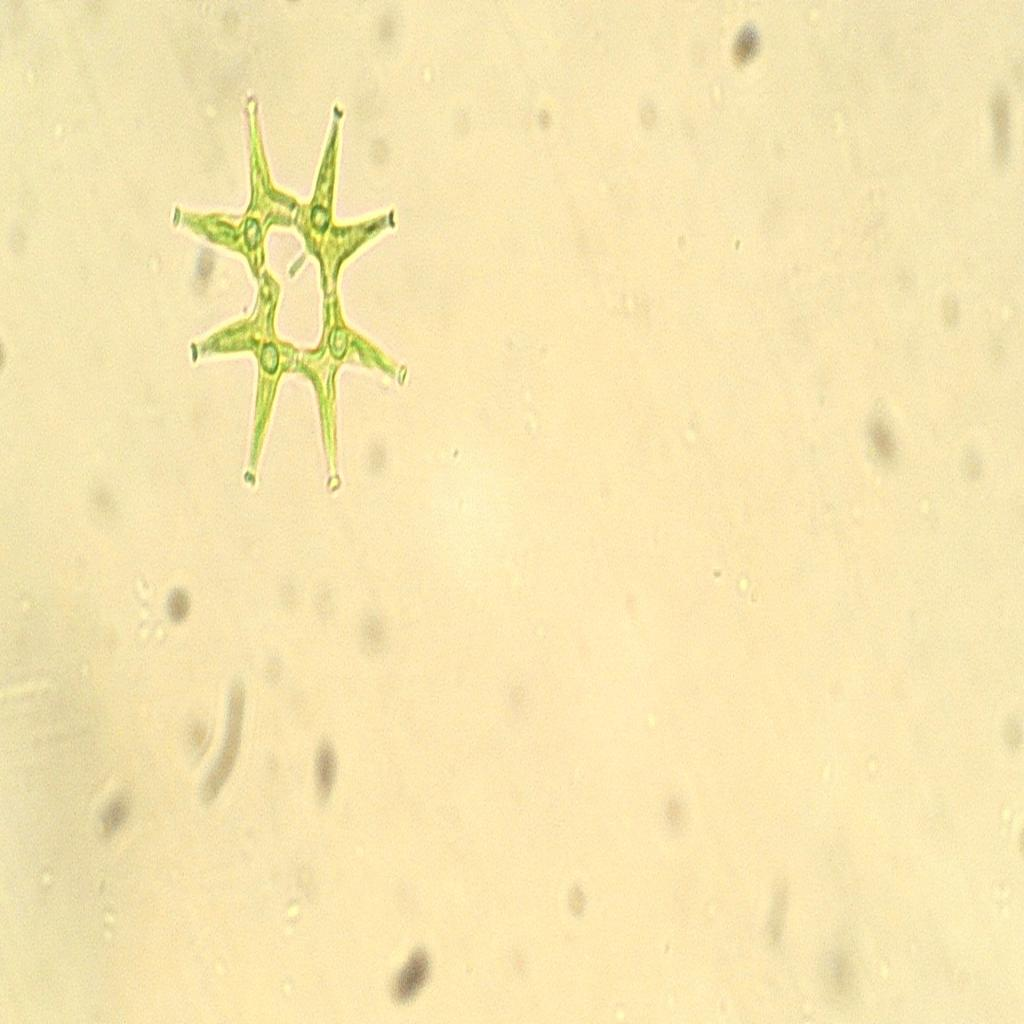Pediastrum_75FO: (159, 74, 429, 496)
